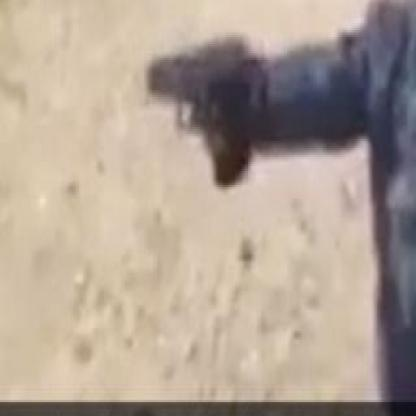gun: (147, 35, 253, 187)
